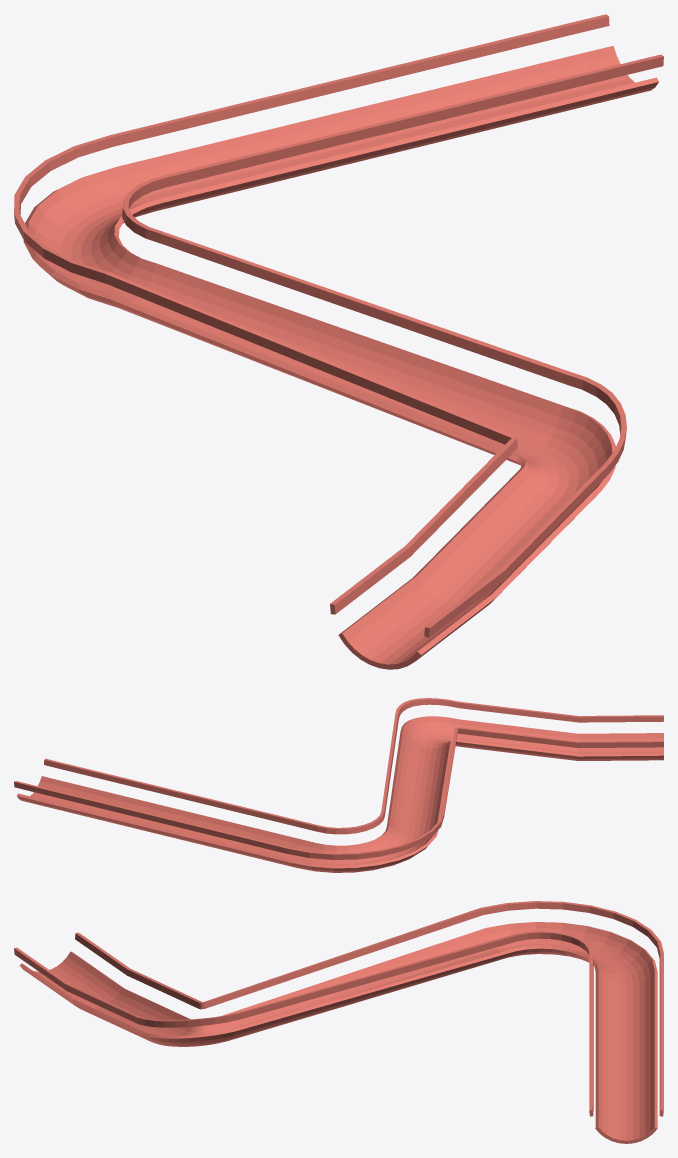
The model's file is scen_III_spir_wejscie-a.fbx.
3 renders of one model, top to bottom at view 1: azimuth 30°, elevation 25°; view 2: azimuth 150°, elevation 25°; view 3: azimuth 270°, elevation 25°, orthographic. The views are drawn at different scales.
Parts seen in each view (by area): view 1: wejście zejście.003; view 2: wejście zejście.003; view 3: wejście zejście.003.
Part boxes in pixels (x1,y1,x2,y2): wejście zejście.003: (14, 14, 663, 669); wejście zejście.003: (14, 698, 663, 872); wejście zejście.003: (14, 901, 663, 1143).
Size of the model in its own units: 1167 by 204 by 1393.
